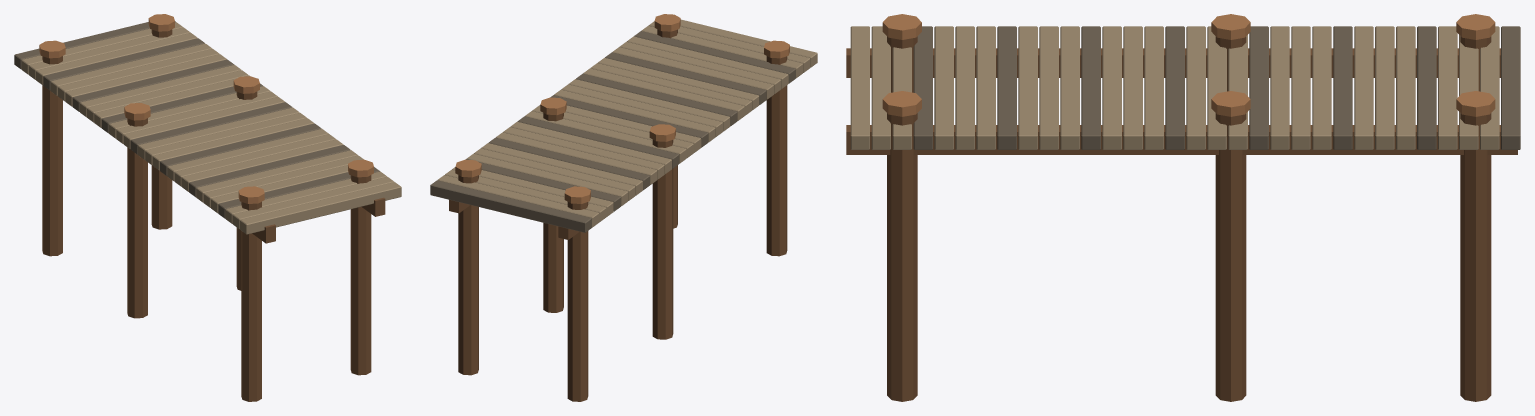
Rendered from env_dock.glb.
3 renders of one model, left to right at view 1: azimuth 30°, elevation 25°; view 2: azimuth 150°, elevation 25°; view 3: azimuth 270°, elevation 25°, orthographic. The views are drawn at different scales.
Visible parts, largest first — view 1: env_dock, env_dock__Dock_pier_1.3_-8.7, env_dock__Dock_pier_-1.3_-8.7, env_dock__Dock_pier_-1.3_-4, env_dock__Dock_pier_-1.3_-0.5, env_dock__Dock_pier_1.3_-0.5, env_dock__Dock_pier_1.3_-4, env_dock__Pier_cap_-1.3_-8.7, env_dock__Pier_cap_-1.3_-0.5, env_dock__Pier_cap_1.3_-4, env_dock__Pier_cap_1.3_-0.5, env_dock__Pier_cap_-1.3_-4 (+1 smaller); view 2: env_dock, env_dock__Dock_pier_-1.3_-0.5, env_dock__Dock_pier_-1.3_-4, env_dock__Dock_pier_-1.3_-8.7, env_dock__Dock_pier_1.3_-0.5, env_dock__Dock_pier_1.3_-4, env_dock__Dock_pier_1.3_-8.7, env_dock__Pier_cap_-1.3_-4, env_dock__Pier_cap_1.3_-8.7, env_dock__Pier_cap_1.3_-4, env_dock__Pier_cap_-1.3_-0.5, env_dock__Pier_cap_1.3_-0.5 (+1 smaller); view 3: env_dock, env_dock__Dock_pier_1.3_-0.5, env_dock__Dock_pier_1.3_-4, env_dock__Dock_pier_1.3_-8.7, env_dock__Dock_underbeam_1.3, env_dock__Dock_underbeam_-1.3, env_dock__Pier_cap_-1.3_-8.7, env_dock__Pier_cap_1.3_-8.7, env_dock__Pier_cap_1.3_-0.5, env_dock__Pier_cap_-1.3_-0.5, env_dock__Pier_cap_-1.3_-4, env_dock__Pier_cap_1.3_-4.
Boxes of the visible parts, x1,y1,x2,y2 form: env_dock: [14, 21, 401, 234]; env_dock__Dock_pier_1.3_-8.7: [350, 175, 371, 375]; env_dock__Dock_pier_-1.3_-8.7: [241, 201, 261, 401]; env_dock__Dock_pier_-1.3_-4: [127, 118, 147, 318]; env_dock__Dock_pier_-1.3_-0.5: [42, 56, 62, 256]; env_dock__Dock_pier_1.3_-0.5: [151, 29, 172, 229]; env_dock__Dock_pier_1.3_-4: [236, 91, 257, 290]; env_dock__Pier_cap_-1.3_-8.7: [238, 186, 264, 203]; env_dock__Pier_cap_-1.3_-0.5: [39, 40, 65, 58]; env_dock__Pier_cap_1.3_-4: [233, 76, 259, 93]; env_dock__Pier_cap_1.3_-0.5: [148, 14, 174, 31]; env_dock__Pier_cap_-1.3_-4: [124, 103, 150, 120]; env_dock: [430, 19, 817, 232]; env_dock__Dock_pier_-1.3_-0.5: [567, 202, 588, 401]; env_dock__Dock_pier_-1.3_-4: [652, 140, 673, 339]; env_dock__Dock_pier_-1.3_-8.7: [766, 56, 787, 256]; env_dock__Dock_pier_1.3_-0.5: [458, 175, 478, 375]; env_dock__Dock_pier_1.3_-4: [543, 113, 563, 312]; env_dock__Dock_pier_1.3_-8.7: [657, 29, 677, 228]; env_dock__Pier_cap_-1.3_-4: [649, 124, 675, 141]; env_dock__Pier_cap_1.3_-8.7: [654, 14, 680, 31]; env_dock__Pier_cap_1.3_-4: [540, 97, 566, 115]; env_dock__Pier_cap_-1.3_-0.5: [564, 186, 590, 203]; env_dock__Pier_cap_1.3_-0.5: [455, 159, 481, 177]; env_dock: [850, 26, 1520, 149]; env_dock__Dock_pier_1.3_-0.5: [1460, 113, 1491, 401]; env_dock__Dock_pier_1.3_-4: [1215, 113, 1246, 401]; env_dock__Dock_pier_1.3_-8.7: [887, 113, 917, 401]; env_dock__Dock_underbeam_1.3: [846, 125, 1517, 154]; env_dock__Dock_underbeam_-1.3: [846, 48, 1500, 77]; env_dock__Pier_cap_-1.3_-8.7: [882, 14, 921, 39]; env_dock__Pier_cap_1.3_-8.7: [882, 91, 921, 116]; env_dock__Pier_cap_1.3_-0.5: [1456, 91, 1495, 116]; env_dock__Pier_cap_-1.3_-0.5: [1456, 14, 1495, 39]; env_dock__Pier_cap_-1.3_-4: [1211, 14, 1250, 39]; env_dock__Pier_cap_1.3_-4: [1211, 91, 1250, 116].
Bounding box in the file's own units: 3.7 × 4.68 × 9.64.
